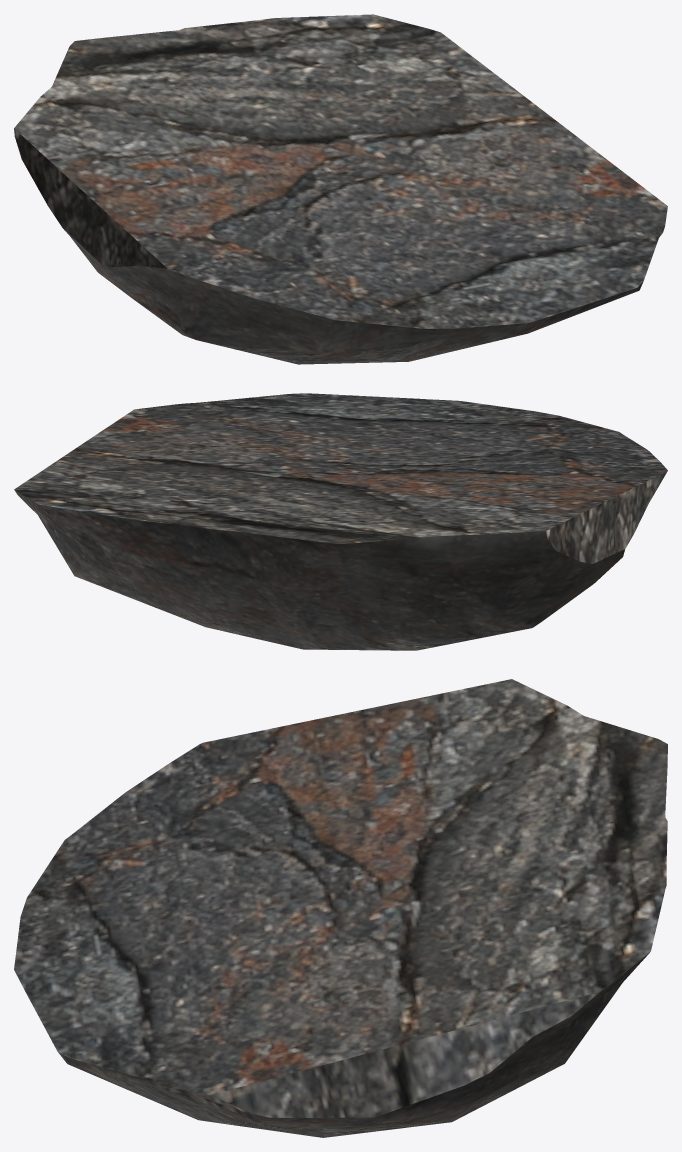
File: SM_HarvestRock_Remnant.fbx
3 renders of one model, top to bottom at view 1: azimuth 30°, elevation 25°; view 2: azimuth 150°, elevation 25°; view 3: azimuth 270°, elevation 25°, orthographic. The views are drawn at different scales.
Parts seen in each view (by area): view 1: SM_HarvestRock_Remnant; view 2: SM_HarvestRock_Remnant; view 3: SM_HarvestRock_Remnant.
Boxes of the visible parts, x1=… form: SM_HarvestRock_Remnant: x1=14, y1=14, x2=667, y2=364; SM_HarvestRock_Remnant: x1=14, y1=393, x2=667, y2=650; SM_HarvestRock_Remnant: x1=14, y1=679, x2=667, y2=1137.
Size of the model in its own units: 138 by 129 by 47.72.
